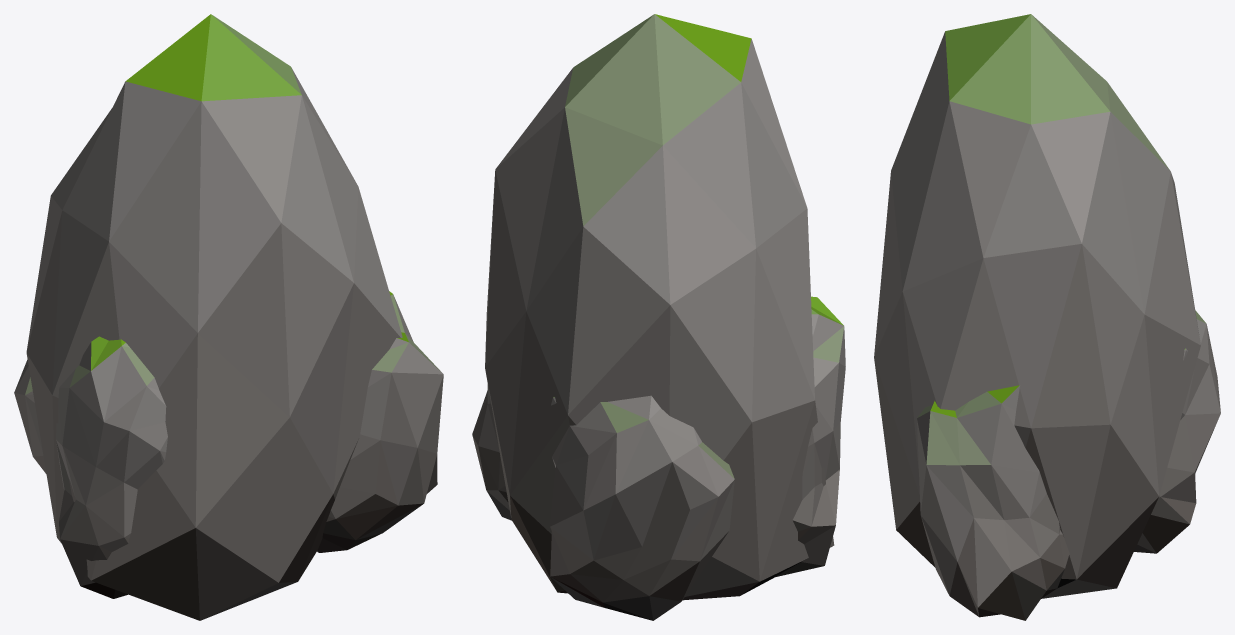
The model's file is batu_boulder_limestone_607947.glb.
3 views of the same model, side by side, from view 1: azimuth 30°, elevation 25°; view 2: azimuth 150°, elevation 25°; view 3: azimuth 270°, elevation 25° (orthographic).
Parts seen in each view (by area): view 1: Batu_Jeram_Sungai; view 2: Batu_Jeram_Sungai; view 3: Batu_Jeram_Sungai.
Boxes of the visible parts, x1,y1,x2,y2 form: Batu_Jeram_Sungai: (14, 14, 443, 620); Batu_Jeram_Sungai: (472, 14, 845, 620); Batu_Jeram_Sungai: (874, 14, 1220, 620).
Bounding box in the file's own units: 3.65 × 5.37 × 3.02.
